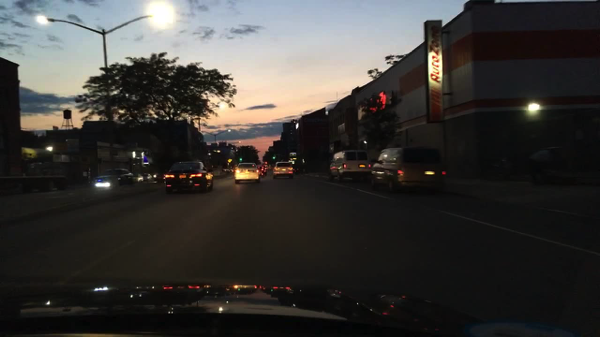car: (369, 147, 447, 195), (165, 161, 214, 194), (329, 149, 370, 182), (234, 162, 261, 184), (105, 168, 135, 182), (92, 175, 118, 191), (272, 162, 294, 180), (132, 171, 146, 184), (153, 171, 166, 181), (143, 172, 153, 183), (255, 165, 264, 176), (262, 162, 269, 175), (293, 165, 299, 174), (229, 168, 234, 175), (271, 163, 275, 171), (271, 154, 276, 160)
person: (529, 149, 555, 187)
traffic light: (238, 156, 243, 162)
traffic sign: (226, 158, 233, 162)
